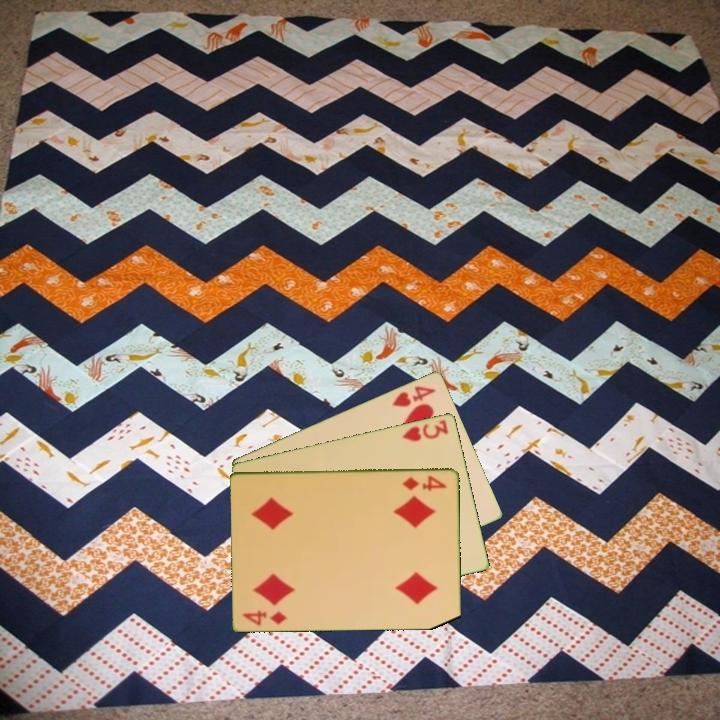3h: (399, 416, 451, 444)
4d: (240, 606, 290, 628), (399, 472, 450, 493)
4h: (389, 382, 439, 410)
